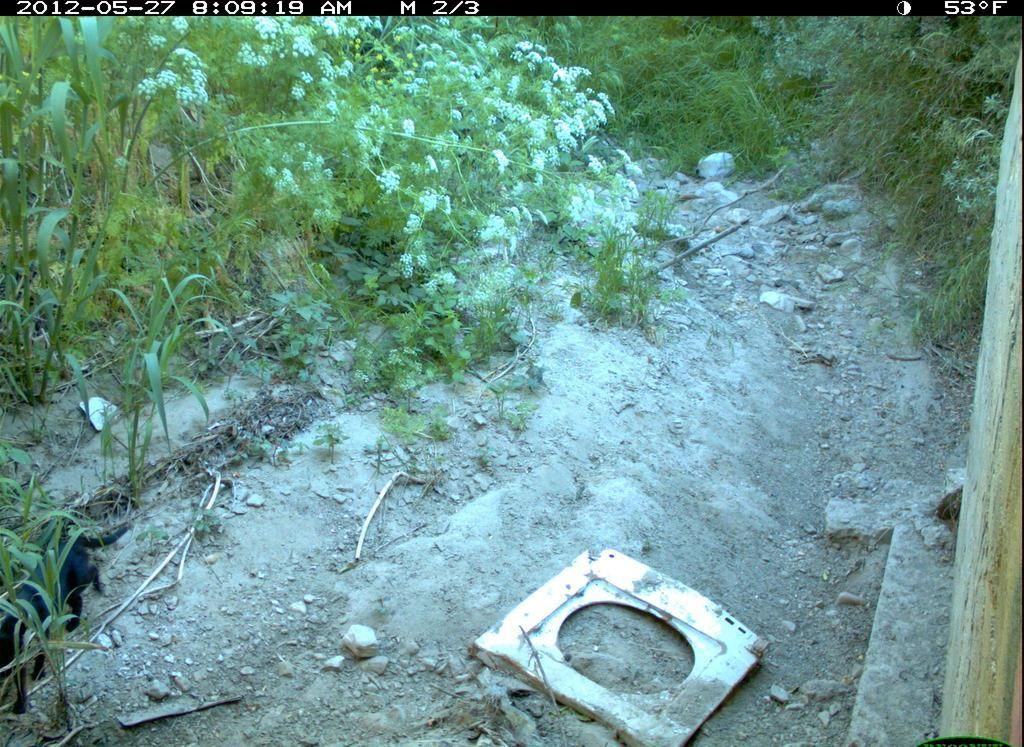cat: (1, 513, 141, 720)
